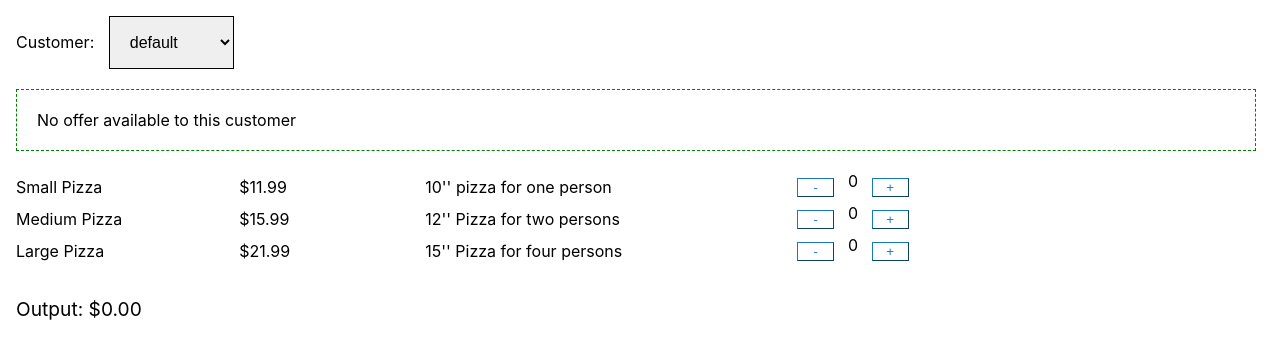
Scenario: Sample test cases › default: should not get Facebook's deal
// select facebook
Select "default" in the dropdown with id "idCustomerDropdown" at (172, 43), box x1=109 y1=16 x2=234 y2=69
// add 5 medium pizza
Click the button with id "idBtnAddMediumPizza".
click(891, 220)  # box x1=872 y1=210 x2=909 y2=229
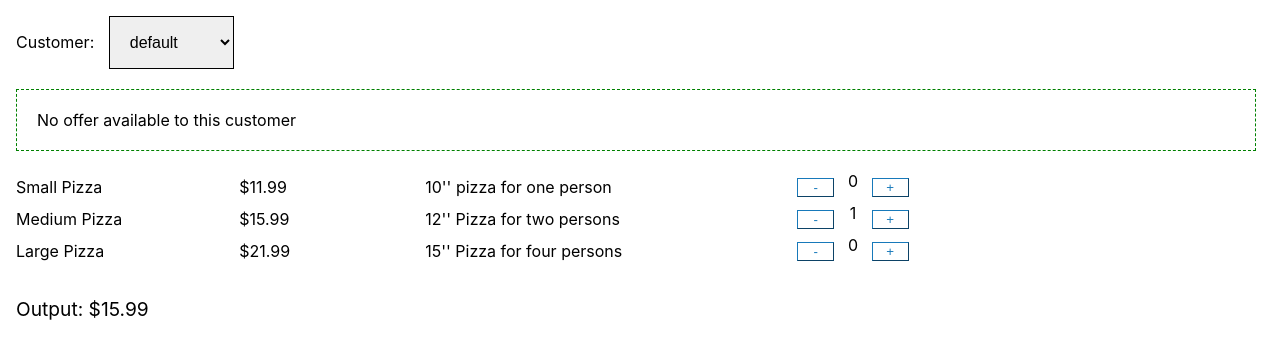
Click the button with id "idBtnAddMediumPizza".
click(891, 220)  # box x1=872 y1=210 x2=909 y2=229
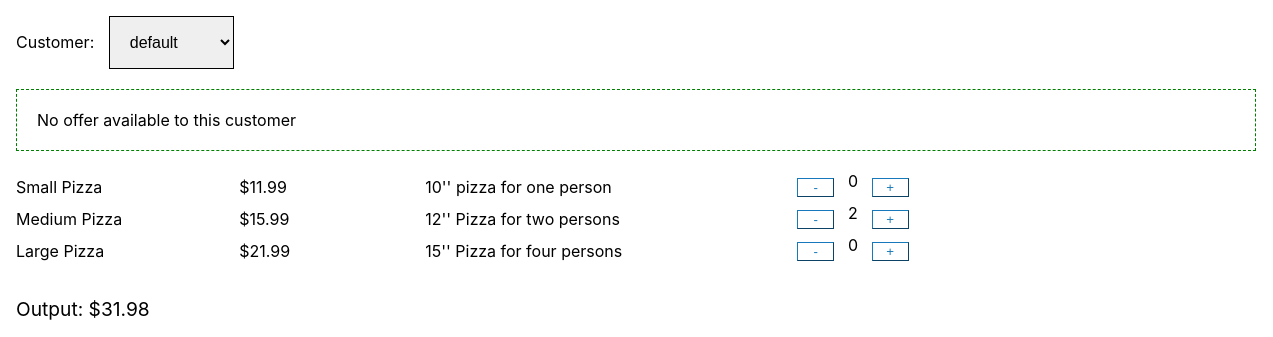
Click the button with id "idBtnAddMediumPizza".
click(891, 220)  # box x1=872 y1=210 x2=909 y2=229
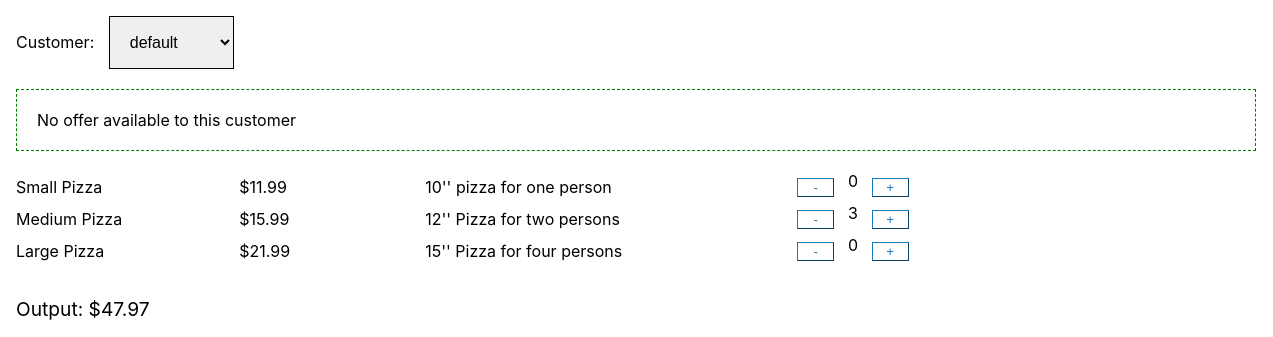
Click the button with id "idBtnAddMediumPizza".
click(891, 220)  # box x1=872 y1=210 x2=909 y2=229
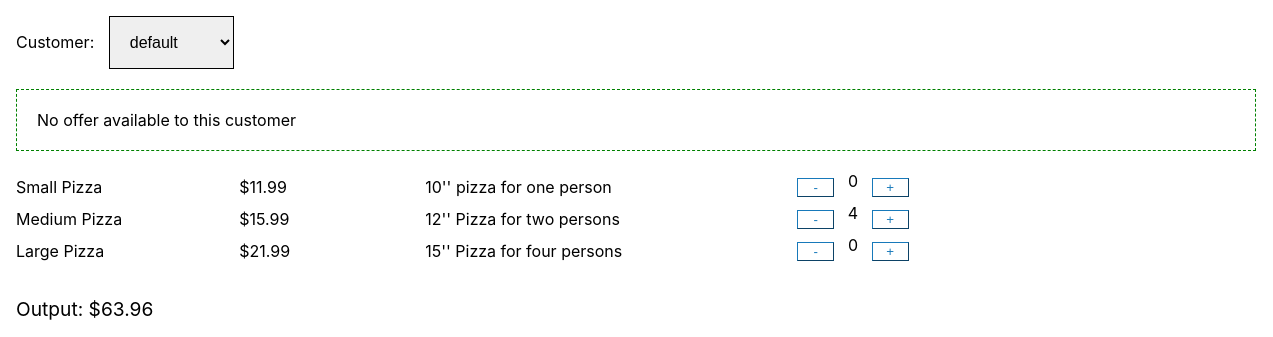
Click the button with id "idBtnAddMediumPizza".
click(891, 220)  # box x1=872 y1=210 x2=909 y2=229
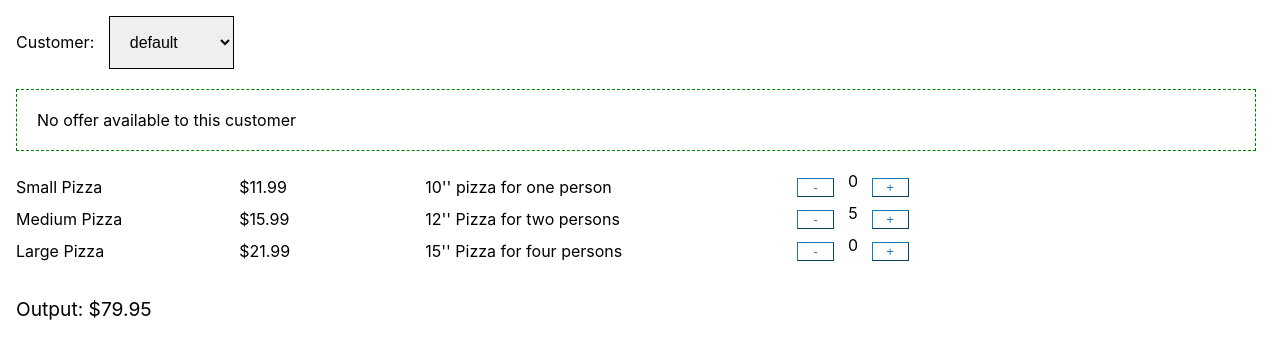
Expected: the text "$63.96" is gone
